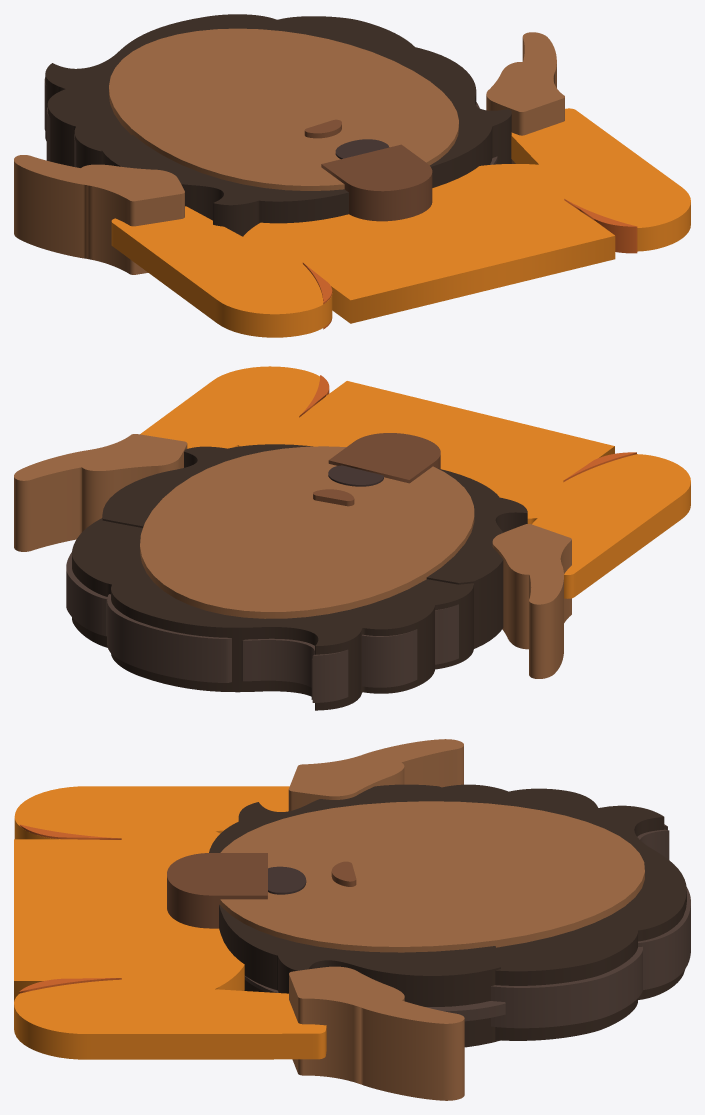
The model's file is emoji_u1f937_1f3fe.glb.
3 views of the same model, one above another, from view 1: azimuth 30°, elevation 25°; view 2: azimuth 150°, elevation 25°; view 3: azimuth 270°, elevation 25° (orthographic). The views are drawn at different scales.
Visible parts, largest first — view 1: emoji_u1f937_1f3fe; view 2: emoji_u1f937_1f3fe; view 3: emoji_u1f937_1f3fe.
Boxes of the visible parts, x1,y1,x2,y2 form: emoji_u1f937_1f3fe: [14, 14, 690, 337]; emoji_u1f937_1f3fe: [14, 366, 690, 710]; emoji_u1f937_1f3fe: [14, 739, 690, 1100].
Bounding box in the file's own units: 0.0331 × 0.0052 × 0.0335.
